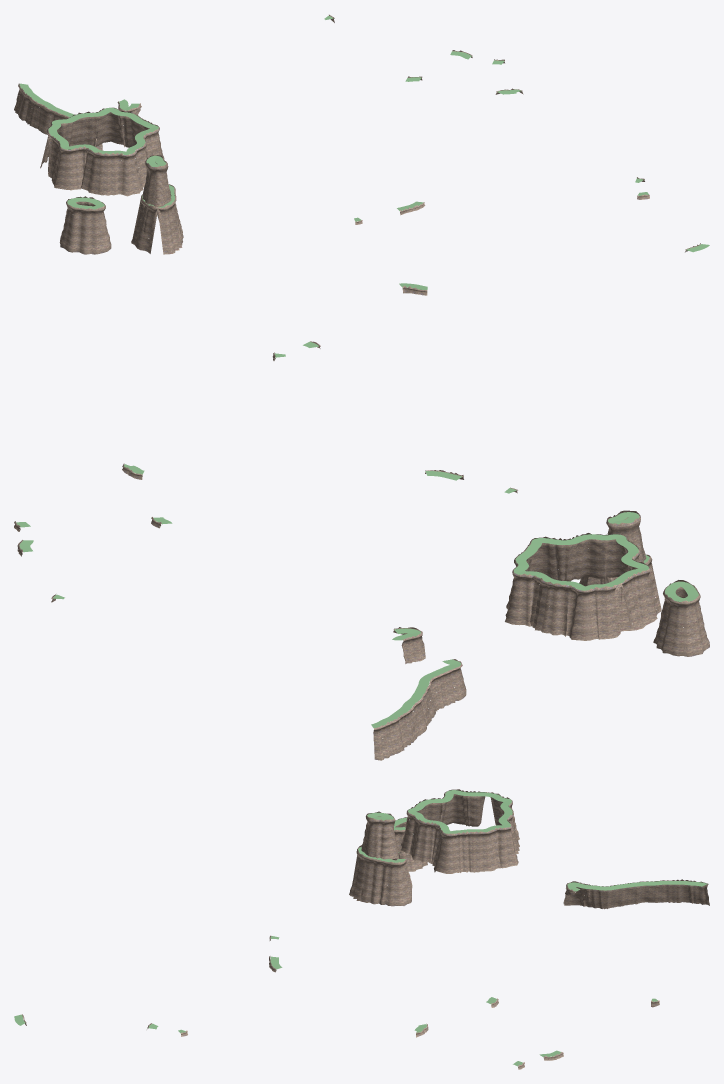
File: CliffWall_plateau_southeast.glb
3 renders of one model, top to bottom at view 1: azimuth 30°, elevation 25°; view 2: azimuth 150°, elevation 25°; view 3: azimuth 270°, elevation 25°, orthographic. The views are drawn at different scales.
Visible parts, largest first — view 1: CliffWall_plateau_southeast-rock0, CliffWall_plateau_southeast-rock6, CliffWall_plateau_southeast-rock7, CliffWall_plateau_southeast-rock1, CliffWall_plateau_southeast-lip0, CliffWall_plateau_southeast-rock15; view 2: CliffWall_plateau_southeast-rock0, CliffWall_plateau_southeast-rock15, CliffWall_plateau_southeast-rock6, CliffWall_plateau_southeast-lip0, CliffWall_plateau_southeast-rock1, CliffWall_plateau_southeast-lip15; view 3: CliffWall_plateau_southeast-rock0, CliffWall_plateau_southeast-rock7, CliffWall_plateau_southeast-rock15, CliffWall_plateau_southeast-rock1, CliffWall_plateau_southeast-lip0, CliffWall_plateau_southeast-lip15, CliffWall_plateau_southeast-rock6.
Boxes of the visible parts, box(x1,y1,x2,y2) form: CliffWall_plateau_southeast-rock0: box(40, 107, 164, 196); CliffWall_plateau_southeast-rock6: box(59, 196, 111, 254); CliffWall_plateau_southeast-rock7: box(133, 184, 183, 254); CliffWall_plateau_southeast-rock1: box(131, 155, 181, 250); CliffWall_plateau_southeast-lip0: box(48, 107, 158, 154); CliffWall_plateau_southeast-rock15: box(14, 83, 102, 150); CliffWall_plateau_southeast-rock0: box(505, 533, 657, 640); CliffWall_plateau_southeast-rock15: box(373, 659, 466, 760); CliffWall_plateau_southeast-rock6: box(653, 580, 709, 656); CliffWall_plateau_southeast-lip0: box(513, 534, 648, 590); CliffWall_plateau_southeast-rock1: box(600, 510, 655, 631); CliffWall_plateau_southeast-lip15: box(371, 659, 460, 727); CliffWall_plateau_southeast-rock0: box(401, 789, 519, 873); CliffWall_plateau_southeast-rock7: box(349, 845, 412, 906); CliffWall_plateau_southeast-rock15: box(563, 879, 709, 909); CliffWall_plateau_southeast-rock1: box(359, 811, 399, 896); CliffWall_plateau_southeast-lip0: box(408, 790, 512, 833); CliffWall_plateau_southeast-lip15: box(590, 881, 707, 890); CliffWall_plateau_southeast-rock6: box(394, 817, 427, 871).
Bounding box in the file's own units: 2454 × 384 × 3058.
4 materials, 1 textured.
